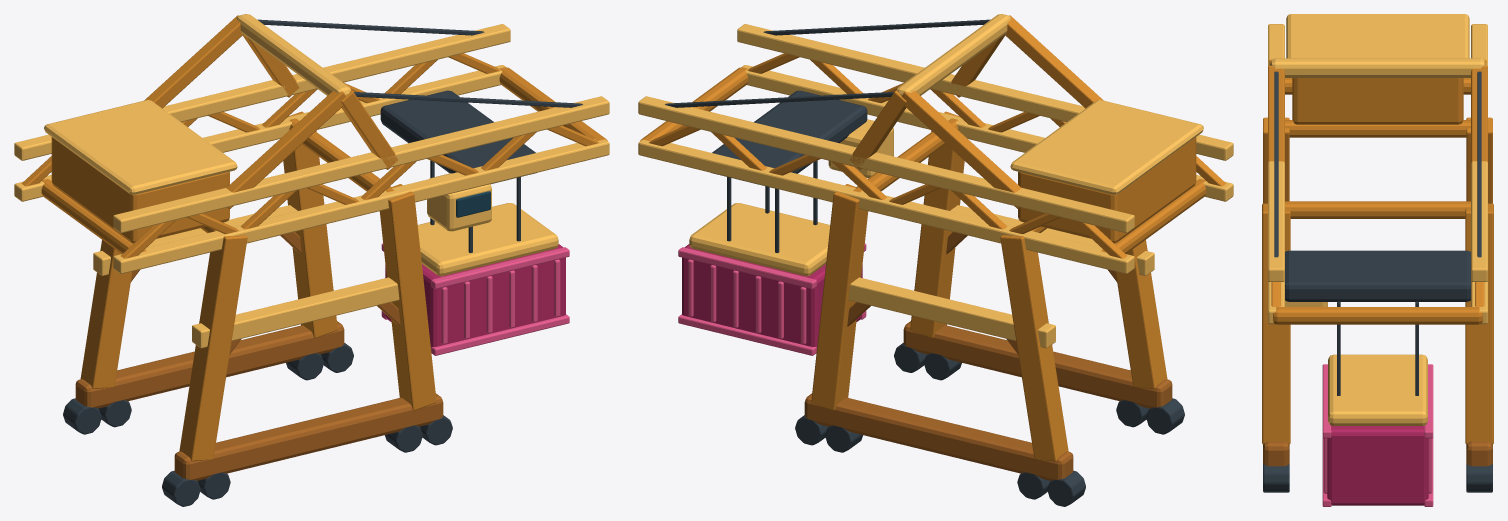
The model's file is gantry-crane.glb.
The picture shows the model from 3 angles, left to right: view 1: azimuth 30°, elevation 25°; view 2: azimuth 150°, elevation 25°; view 3: azimuth 270°, elevation 25°; orthographic projection. The views are drawn at different scales.
Parts seen in each view (by area): view 1: gantry-crane; view 2: gantry-crane; view 3: gantry-crane.
Part boxes in pixels (x1=…): gantry-crane: x1=14, y1=14, x2=609, y2=506; gantry-crane: x1=638, y1=14, x2=1233, y2=506; gantry-crane: x1=1262, y1=14, x2=1493, y2=506.
Bounding box in the file's own units: 3.28 × 2.39 × 1.3.
